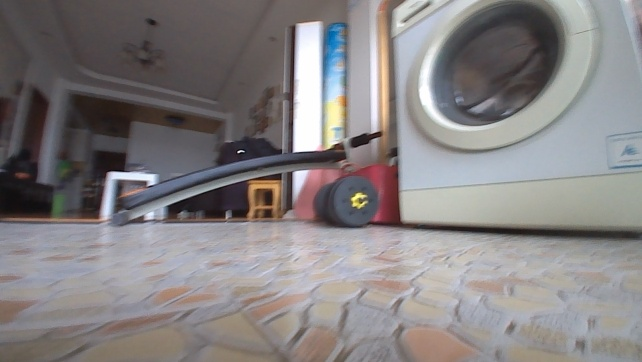washing_machine: (387, 0, 641, 235)
